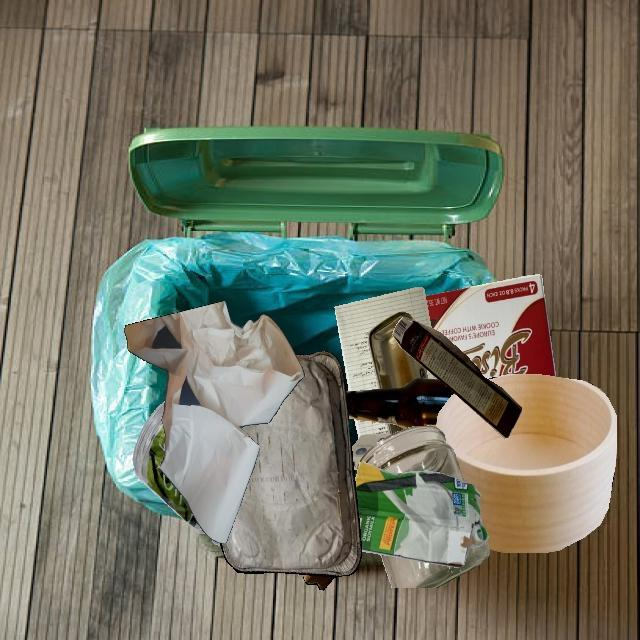cardboard: (392, 317, 522, 438), (355, 462, 488, 568), (425, 274, 556, 379), (351, 433, 392, 479), (303, 574, 335, 590)
combustible waste: (436, 374, 617, 553)
glass: (346, 378, 455, 429), (380, 538, 489, 588), (357, 425, 453, 478), (368, 311, 428, 389)
metal: (221, 351, 362, 577)
paper: (125, 301, 304, 543), (334, 287, 431, 391), (368, 321, 428, 422)
plastic: (133, 401, 205, 534)
